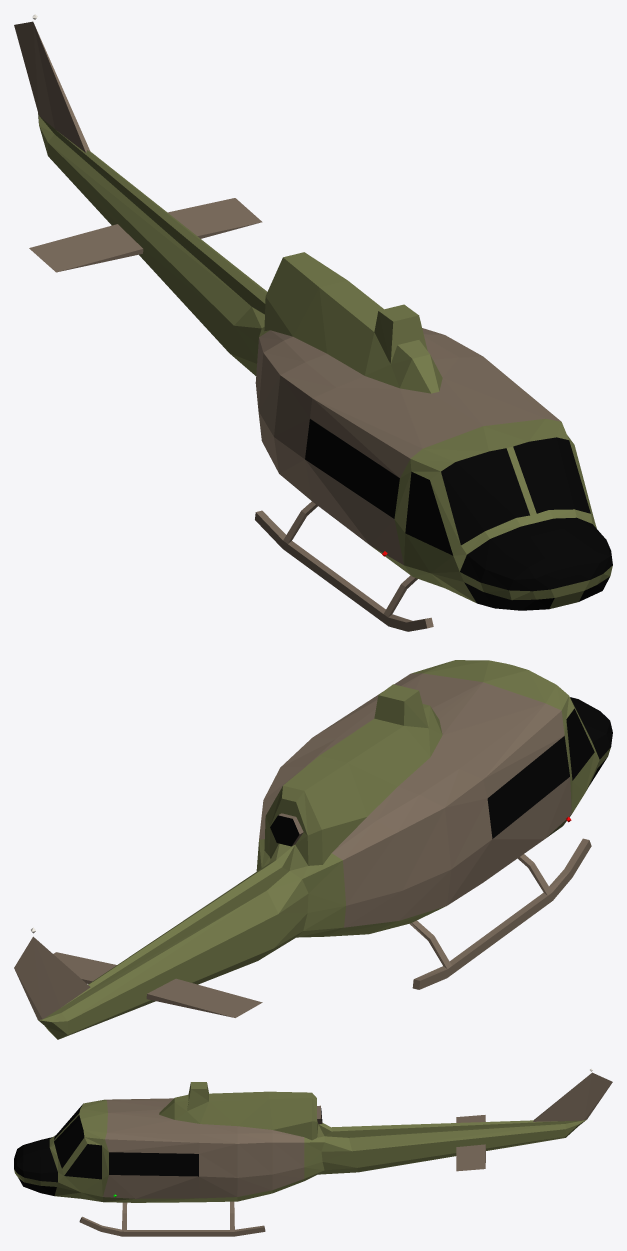
File: BELL212.glb
3 renders of one model, top to bottom at view 1: azimuth 30°, elevation 25°; view 2: azimuth 150°, elevation 25°; view 3: azimuth 270°, elevation 25°, orthographic. The views are drawn at different scales.
Visible parts, largest first — view 1: BELL212 | archived geometry; view 2: BELL212 | archived geometry; view 3: BELL212 | archived geometry.
Boxes of the visible parts, bbox=[...] form: BELL212 | archived geometry: bbox=[14, 21, 612, 631]; BELL212 | archived geometry: bbox=[14, 660, 612, 1039]; BELL212 | archived geometry: bbox=[14, 1072, 612, 1236].
Size of the model in its own units: 2.37 by 2.98 by 11.04.
